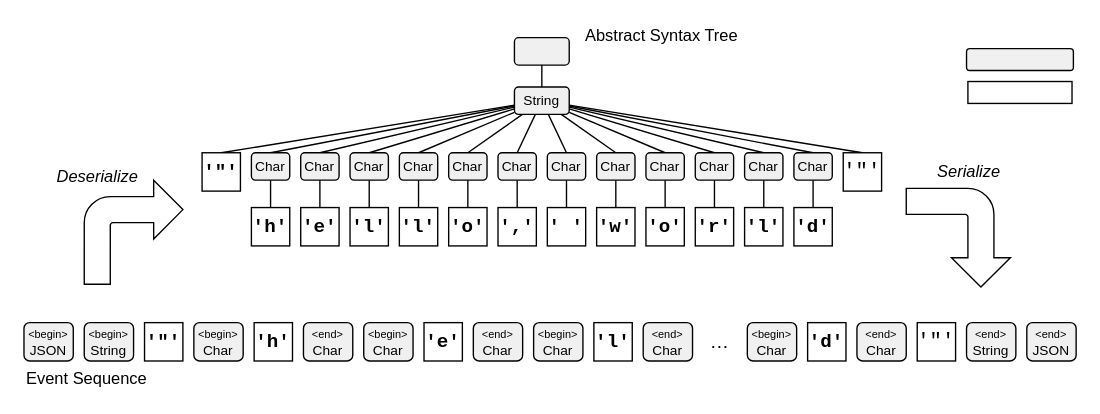
Image size: 1100x414. Some labels were removed from this diagram. Here are the shapes that lost their labels. From the top down, the centre of each, then its label:
At (x=541, y=50): "JSON".
At (x=1019, y=59): "nonterminal symbol".
At (x=1019, y=91): "terminal symbol".
